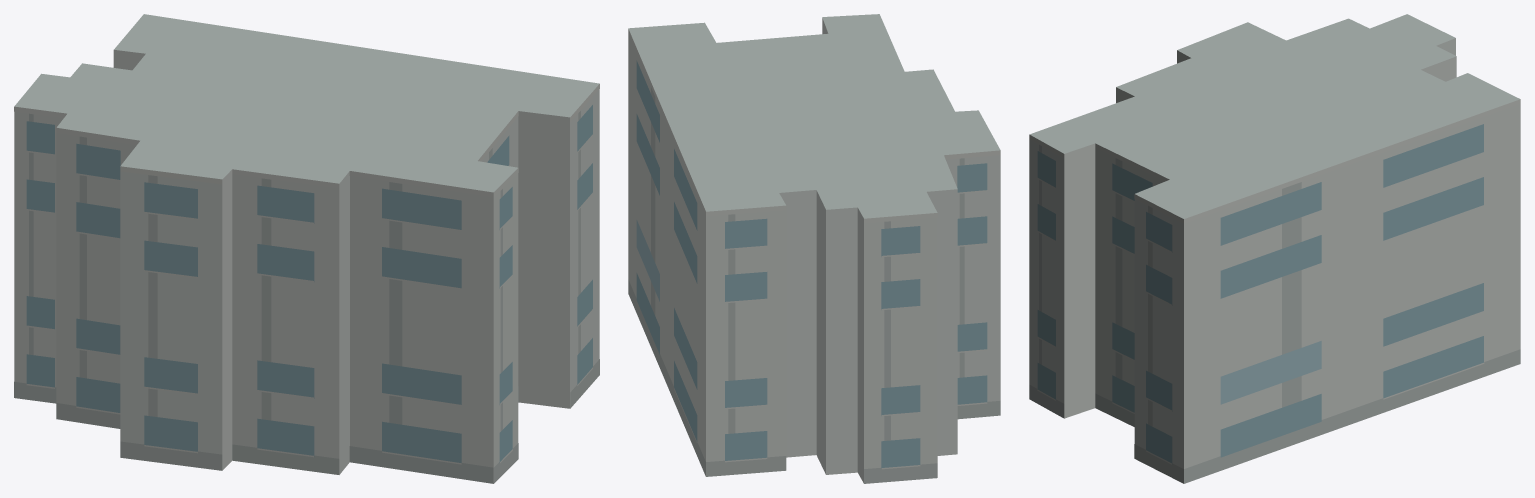
The model's file is survey-upis-32777089.glb.
3 renders of one model, left to right at view 1: azimuth 30°, elevation 25°; view 2: azimuth 150°, elevation 25°; view 3: azimuth 270°, elevation 25°, orthographic. The views are drawn at different scales.
Parts seen in each view (by area): view 1: survey-upis-32777089.tmp; view 2: survey-upis-32777089.tmp; view 3: survey-upis-32777089.tmp.
Part boxes in pixels (left/top/right/bottom): survey-upis-32777089.tmp: left=14, top=14, right=599, bottom=483; survey-upis-32777089.tmp: left=628, top=14, right=1000, bottom=483; survey-upis-32777089.tmp: left=1029, top=14, right=1520, bottom=483.
Size of the model in its own units: 22.78 by 13.7 by 23.04.
